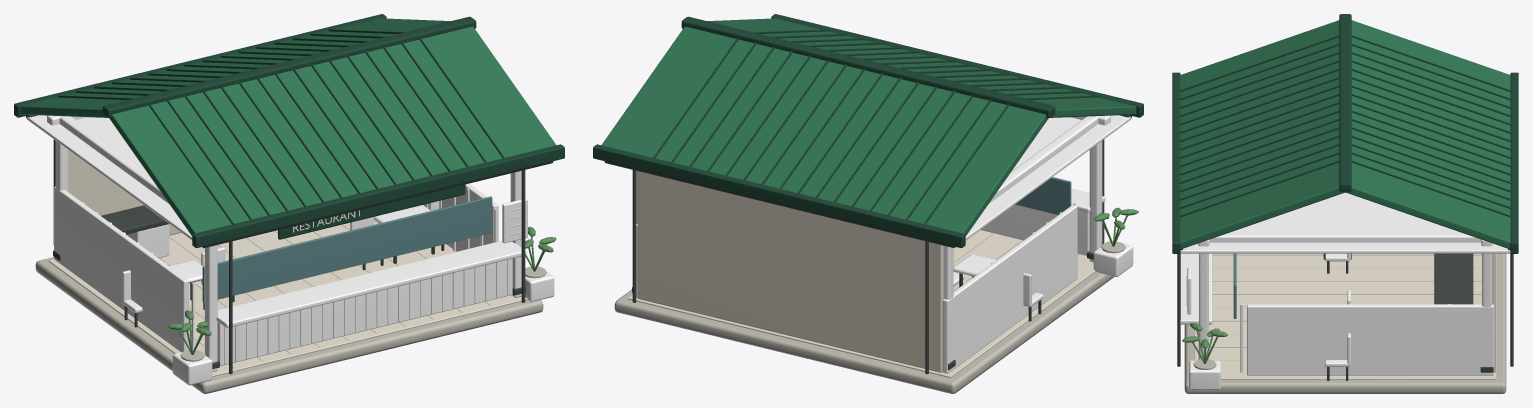
Rendered from restaurant_pavillon_baie_des_rois_compact.glb.
3 views of the same model, side by side, from view 1: azimuth 30°, elevation 25°; view 2: azimuth 150°, elevation 25°; view 3: azimuth 270°, elevation 25° (orthographic). The views are drawn at different scales.
Visible parts, largest first — view 1: Pan_toiture_vert_deux_pans, Credence_comptoir, Claustra_lateral_bas, Facade_comptoir, Carrelage_interieur, Socle_beton, Pan_toiture_vert_deux_pans.001, Plan_comptoir, Bandeau_rive_longitudinale, Faitage_metallique, Sous_face_bois, Mur_arriere_enduit (+16 smaller); view 2: Pan_toiture_vert_deux_pans.001, Mur_arriere_enduit, Claustra_lateral_bas, Socle_beton, Pan_toiture_vert_deux_pans, Bandeau_rive_longitudinale.001, Faitage_metallique, Sous_face_bois, Carrelage_interieur, Facade_comptoir, Bandeau_rive_longitudinale, Poutre_transversale (+8 smaller); view 3: Pan_toiture_vert_deux_pans, Pan_toiture_vert_deux_pans.001, Claustra_lateral_bas.001, Carrelage_interieur, Sous_face_bois, Socle_beton, Poutre_transversale.001, Faitage_metallique, Plan_travail_cuisine, Bandeau_rive_longitudinale, Bandeau_rive_longitudinale.001, Plan_comptoir (+39 smaller).
Part boxes in pixels (x1,y1,x2,y2): Pan_toiture_vert_deux_pans: (109, 26, 556, 235); Credence_comptoir: (202, 196, 492, 302); Claustra_lateral_bas: (54, 186, 188, 351); Facade_comptoir: (217, 258, 512, 365); Carrelage_interieur: (48, 221, 527, 376); Socle_beton: (35, 257, 543, 393); Pan_toiture_vert_deux_pans.001: (21, 18, 450, 117); Plan_comptoir: (216, 241, 526, 327); Bandeau_rive_longitudinale: (192, 144, 564, 247); Faitage_metallique: (102, 16, 476, 118); Sous_face_bois: (27, 115, 201, 247); Mur_arriere_enduit: (68, 150, 181, 235); Pan_toiture_vert_deux_pans.001: (601, 26, 1048, 235); Mur_arriere_enduit: (637, 171, 943, 372); Claustra_lateral_bas: (942, 205, 1077, 373); Socle_beton: (614, 272, 1114, 393); Pan_toiture_vert_deux_pans: (707, 18, 1136, 117); Bandeau_rive_longitudinale.001: (593, 144, 965, 247); Faitage_metallique: (681, 16, 1055, 118); Sous_face_bois: (956, 115, 1130, 247); Carrelage_interieur: (627, 230, 1095, 377); Facade_comptoir: (980, 204, 1089, 255); Bandeau_rive_longitudinale: (771, 14, 1143, 117); Poutre_transversale: (989, 116, 1098, 203); Pan_toiture_vert_deux_pans: (1180, 20, 1345, 249); Pan_toiture_vert_deux_pans.001: (1345, 20, 1510, 249); Claustra_lateral_bas.001: (1247, 304, 1493, 375); Carrelage_interieur: (1194, 253, 1496, 379); Sous_face_bois: (1180, 192, 1510, 253); Socle_beton: (1184, 253, 1506, 393); Poutre_transversale.001: (1209, 232, 1481, 242); Faitage_metallique: (1339, 14, 1351, 191); Plan_travail_cuisine: (1434, 253, 1473, 304); Bandeau_rive_longitudinale: (1172, 72, 1180, 253); Bandeau_rive_longitudinale.001: (1510, 72, 1518, 253); Plan_comptoir: (1180, 253, 1212, 324).
Size of the model in its own units: 8.05 by 4.62 by 6.66.
